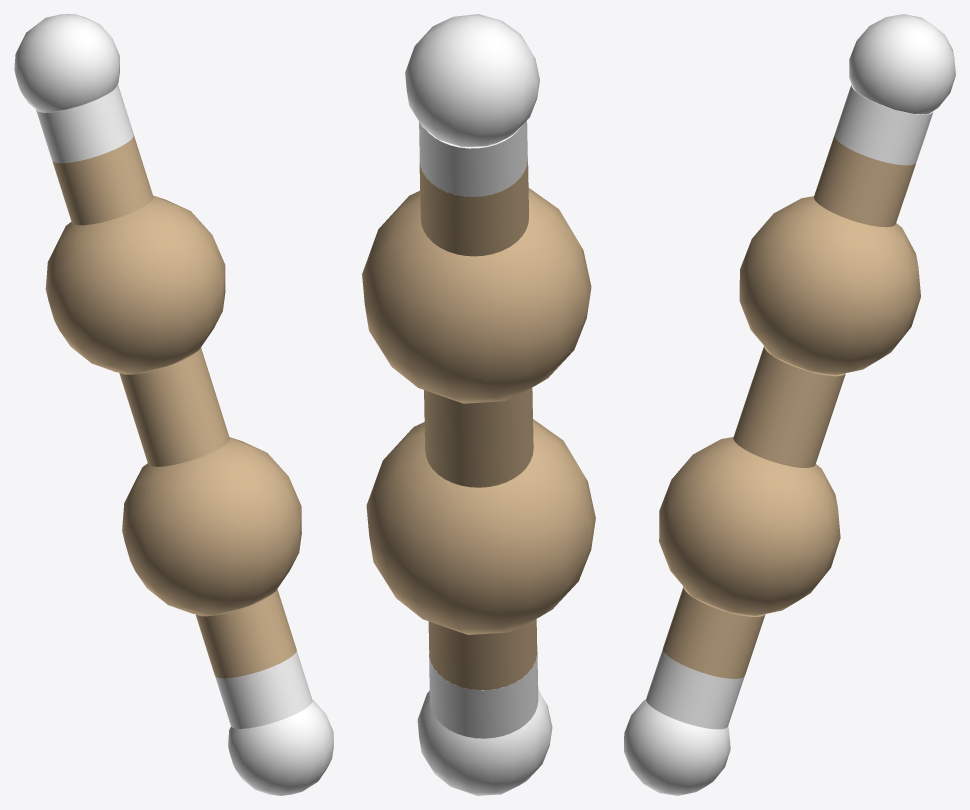
3 views of the same model, side by side, from view 1: azimuth 30°, elevation 25°; view 2: azimuth 150°, elevation 25°; view 3: azimuth 270°, elevation 25° (orthographic). The views are drawn at different scales.
Parts seen in each view (by area): view 1: subnode_1, subnode_0, subnode_4, subnode_3, subnode_2, subnode_5, subnode_7, subnode_8, subnode_6; view 2: subnode_1, subnode_0, subnode_3, subnode_4, subnode_2, subnode_7, subnode_5, subnode_8, subnode_6; view 3: subnode_1, subnode_0, subnode_4, subnode_3, subnode_2, subnode_5, subnode_7, subnode_8, subnode_6.
Part boxes in pixels (x1,y1,x2,y2): subnode_1: [45, 195, 225, 374]; subnode_0: [122, 437, 301, 615]; subnode_4: [119, 348, 229, 466]; subnode_3: [14, 14, 119, 112]; subnode_2: [228, 699, 333, 795]; subnode_5: [195, 589, 296, 678]; subnode_7: [52, 135, 153, 225]; subnode_8: [36, 84, 133, 163]; subnode_6: [215, 650, 312, 728]; subnode_1: [362, 188, 591, 403]; subnode_0: [366, 419, 595, 634]; subnode_3: [405, 14, 539, 146]; subnode_4: [424, 387, 533, 487]; subnode_2: [417, 690, 552, 795]; subnode_7: [419, 156, 528, 256]; subnode_5: [428, 619, 537, 690]; subnode_8: [419, 120, 527, 196]; subnode_6: [429, 651, 538, 738]; subnode_1: [739, 196, 920, 374]; subnode_0: [659, 437, 840, 615]; subnode_4: [733, 346, 845, 467]; subnode_3: [849, 14, 955, 114]; subnode_2: [624, 699, 730, 795]; subnode_5: [663, 586, 765, 678]; subnode_7: [814, 135, 915, 227]; subnode_8: [834, 84, 933, 165]; subnode_6: [646, 649, 744, 729].
Bounding box in the file's own units: 1.04 × 3.68 × 1.53.
